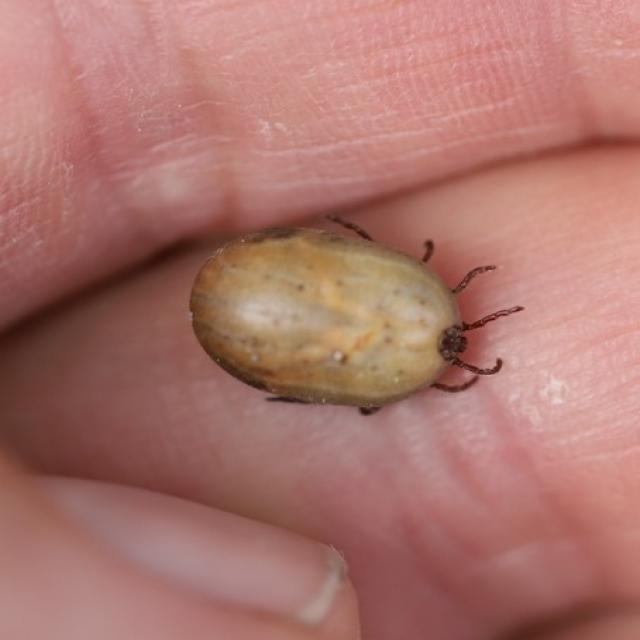Dermacentor Reticulatus-F-Fed: (190, 215, 524, 416)
